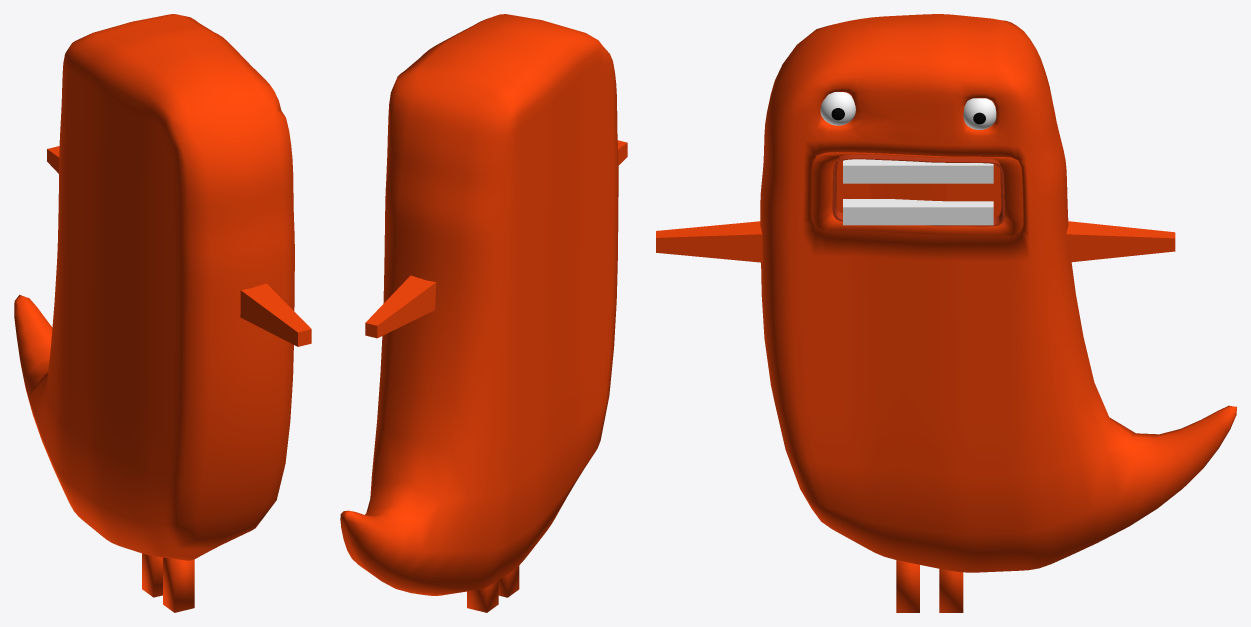
Rendered from OrangeMonster.fbx.
3 views of the same model, side by side, from view 1: azimuth 30°, elevation 25°; view 2: azimuth 150°, elevation 25°; view 3: azimuth 270°, elevation 25° (orthographic). The views are drawn at different scales.
Visible parts, largest first — view 1: Plane; view 2: Plane; view 3: Plane.
Boxes of the visible parts, bbox=[...] form: Plane: bbox=[14, 14, 311, 612]; Plane: bbox=[340, 14, 627, 612]; Plane: bbox=[656, 14, 1236, 612].
Size of the model in its own units: 454 by 124 by 498.
